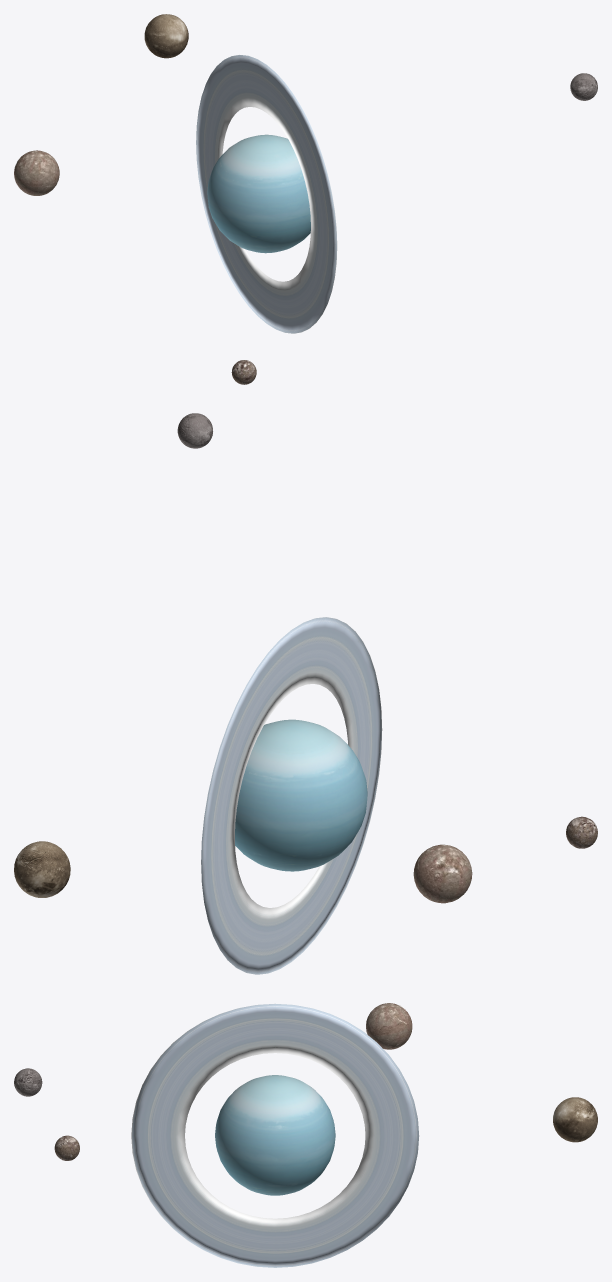
The model's file is uranus.obj.
3 renders of one model, top to bottom at view 1: azimuth 30°, elevation 25°; view 2: azimuth 150°, elevation 25°; view 3: azimuth 270°, elevation 25°, orthographic. The views are drawn at different scales.
Visible parts, largest first — view 1: Rings_Mesh.005, Uranus_Mesh, Titania_Mesh.002, Ariel_Mesh.004, Miranda_Mesh.003, Oberon_Mesh.001; view 2: Rings_Mesh.005, Uranus_Mesh, Titania_Mesh.002, Ariel_Mesh.004, Miranda_Mesh.003, Oberon_Mesh.001; view 3: Rings_Mesh.005, Uranus_Mesh, Titania_Mesh.002, Ariel_Mesh.004, Miranda_Mesh.003, Oberon_Mesh.001.
Boxes of the visible parts, x1,y1,x2,y2 form: Rings_Mesh.005: (196,55,337,333); Uranus_Mesh: (207,134,310,253); Titania_Mesh.002: (14,150,59,195); Ariel_Mesh.004: (144,14,188,58); Miranda_Mesh.003: (570,73,597,100); Oberon_Mesh.001: (231,360,256,384); Rings_Mesh.005: (201,617,382,974); Uranus_Mesh: (235,719,367,871); Titania_Mesh.002: (413,844,472,903); Ariel_Mesh.004: (14,841,70,897); Miranda_Mesh.003: (177,413,212,448); Oberon_Mesh.001: (566,816,597,848); Rings_Mesh.005: (131,1003,419,1267); Uranus_Mesh: (215,1075,335,1195); Titania_Mesh.002: (366,1003,412,1049); Ariel_Mesh.004: (553,1097,597,1142); Miranda_Mesh.003: (14,1068,42,1096); Oberon_Mesh.001: (54,1135,79,1160).
Bounding box in the file's own units: 63.87 × 44.07 × 78.85.
6 materials, 6 textured.
